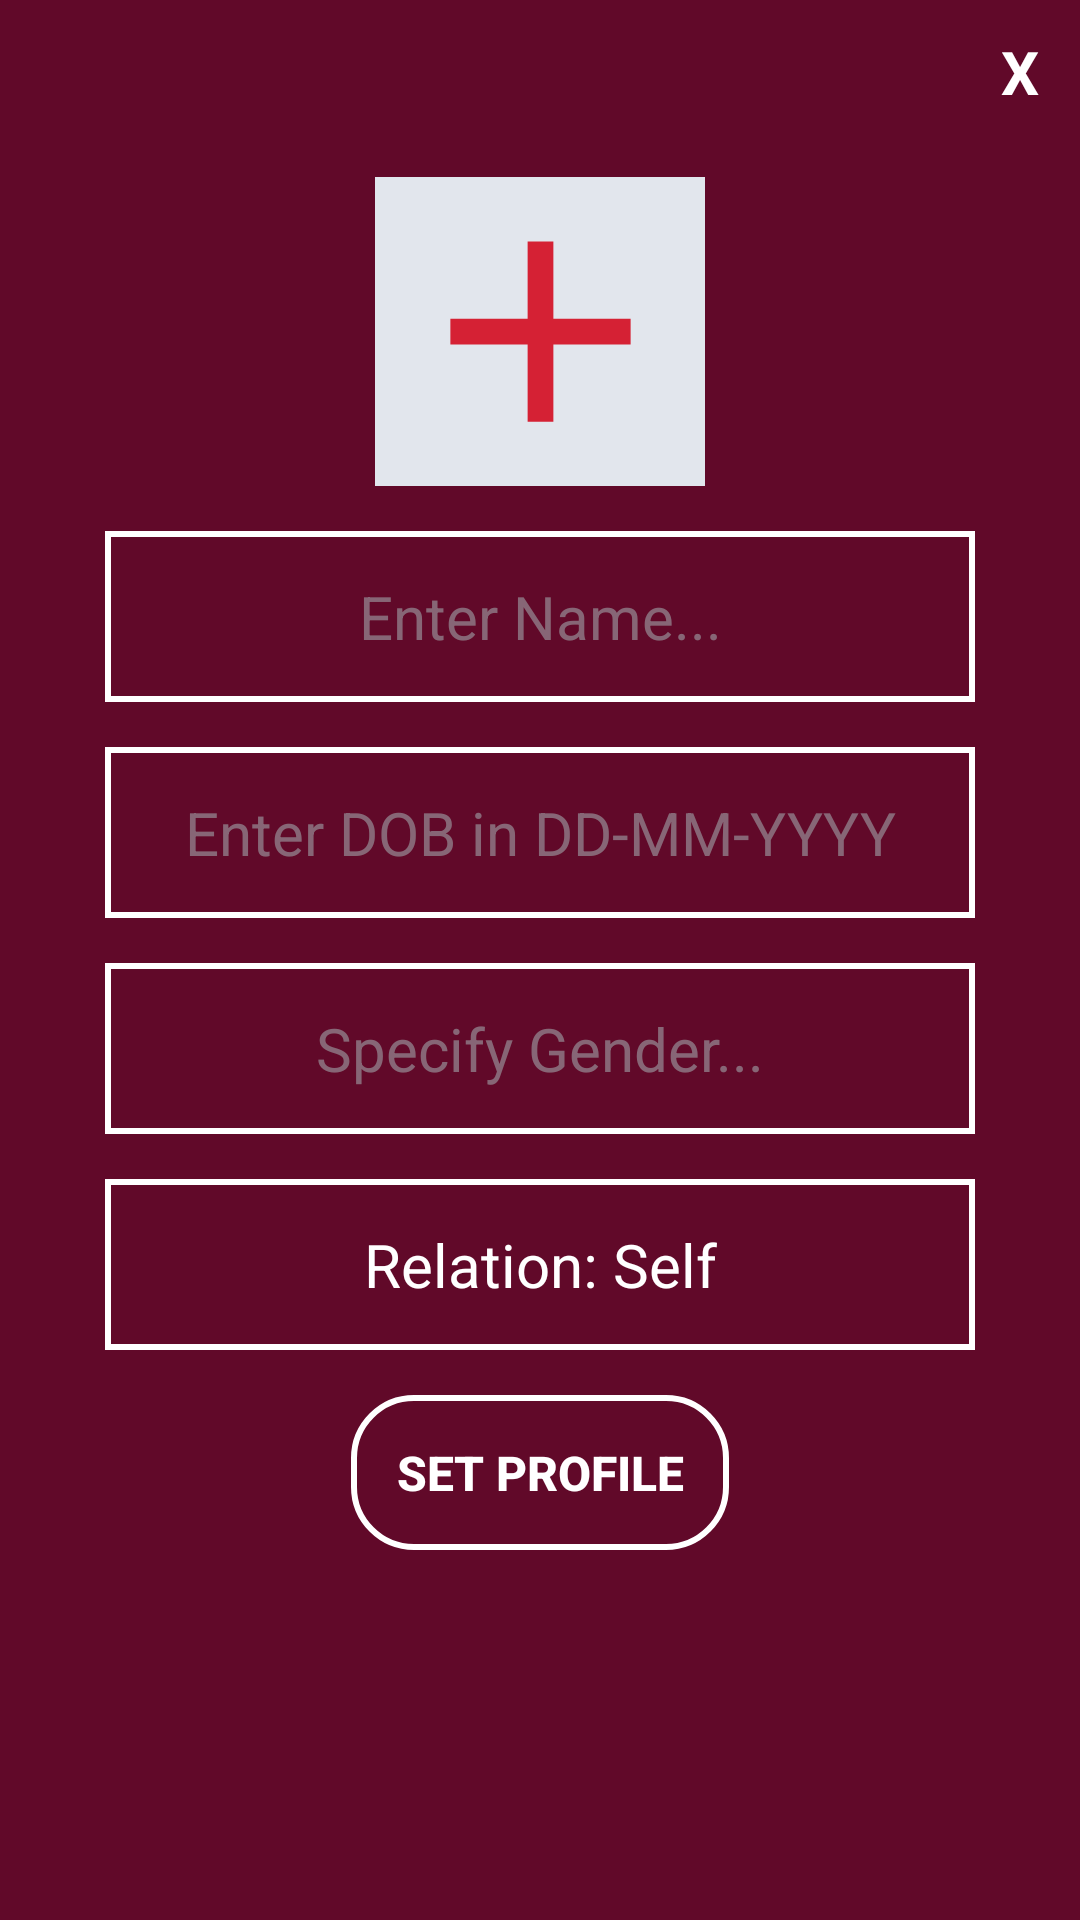

Named icons in this screenshot (1080w x 1920h) and their bounding boxes, (x1, y1, x2, y2):
add: (375, 177, 705, 486)
